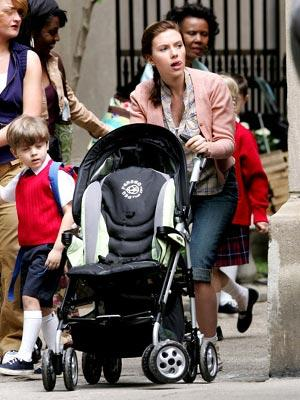person: (123, 19, 261, 374)
